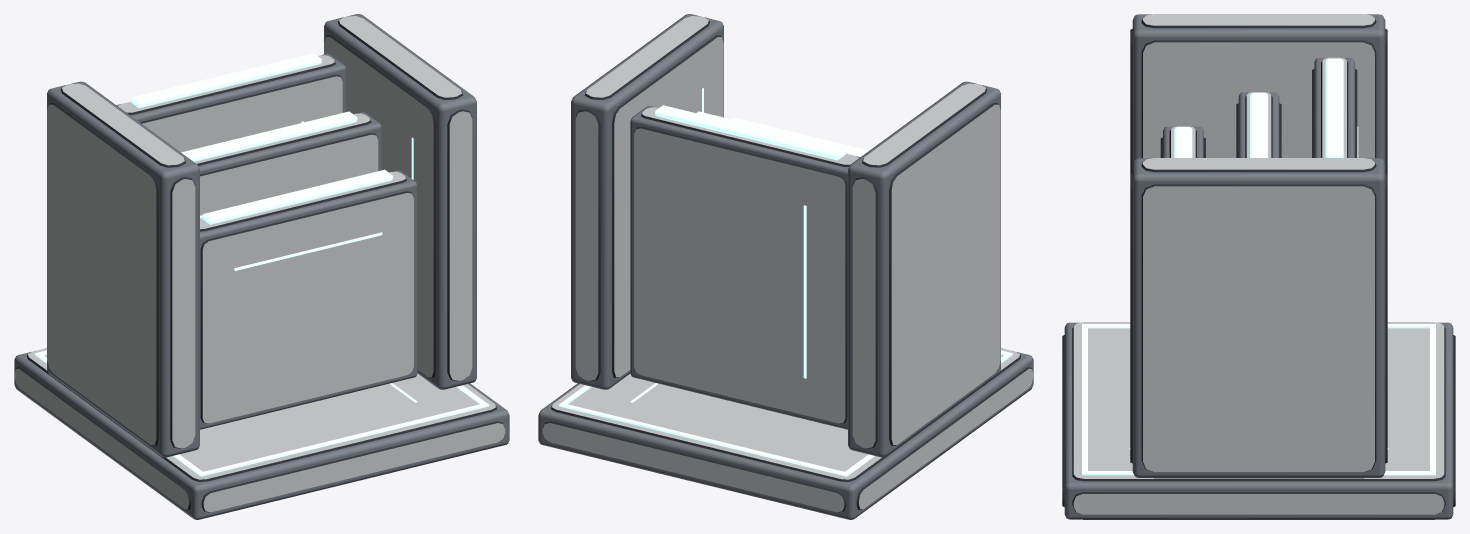
Rendered from R4X_WallDeployer.fbx.
The picture shows the model from 3 angles, left to right: view 1: azimuth 30°, elevation 25°; view 2: azimuth 150°, elevation 25°; view 3: azimuth 270°, elevation 25°; orthographic projection. The views are drawn at different scales.
Visible parts, largest first — view 1: R4X_WallDeployer_Body, R4X_WallDeployer_Panels; view 2: R4X_WallDeployer_Body, R4X_WallDeployer_Panels; view 3: R4X_WallDeployer_Body, R4X_WallDeployer_Panels.
Part boxes in pixels (x1=…): R4X_WallDeployer_Body: x1=14, y1=14, x2=509, y2=519; R4X_WallDeployer_Panels: x1=116, y1=53, x2=417, y2=429; R4X_WallDeployer_Body: x1=538, y1=14, x2=1033, y2=519; R4X_WallDeployer_Panels: x1=630, y1=105, x2=868, y2=429; R4X_WallDeployer_Body: x1=1062, y1=14, x2=1455, y2=519; R4X_WallDeployer_Panels: x1=1160, y1=57, x2=1358, y2=157.
Size of the model in its own units: 0.52 by 0.51 by 0.52.
